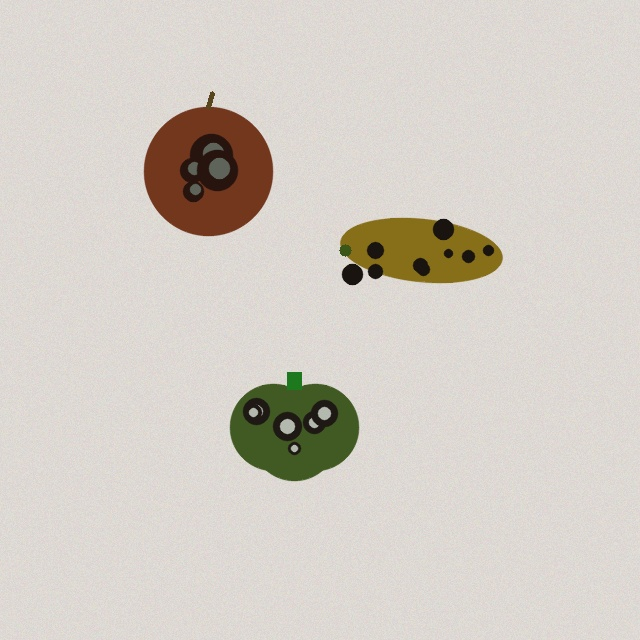Rotten apple: (144, 93, 272, 235)
Rotten banana: (336, 212, 506, 288)
Rotten bell pepper: (230, 372, 358, 480)
